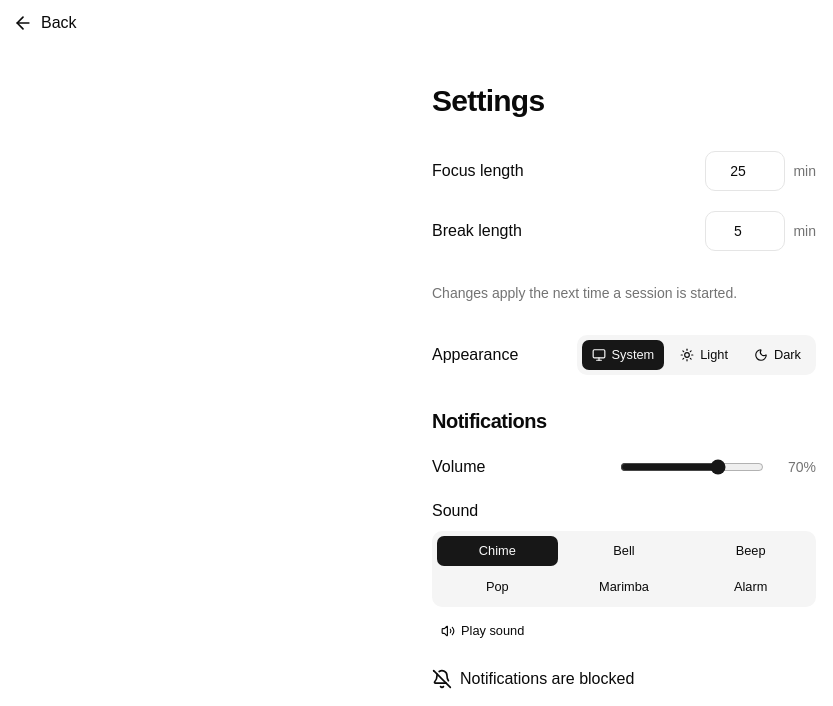
it: sound › selects, saves and previews a new sound
The image size is (833, 706).
Click the radio button labelled "Bell" at (624, 551), box [563,535,685,567]
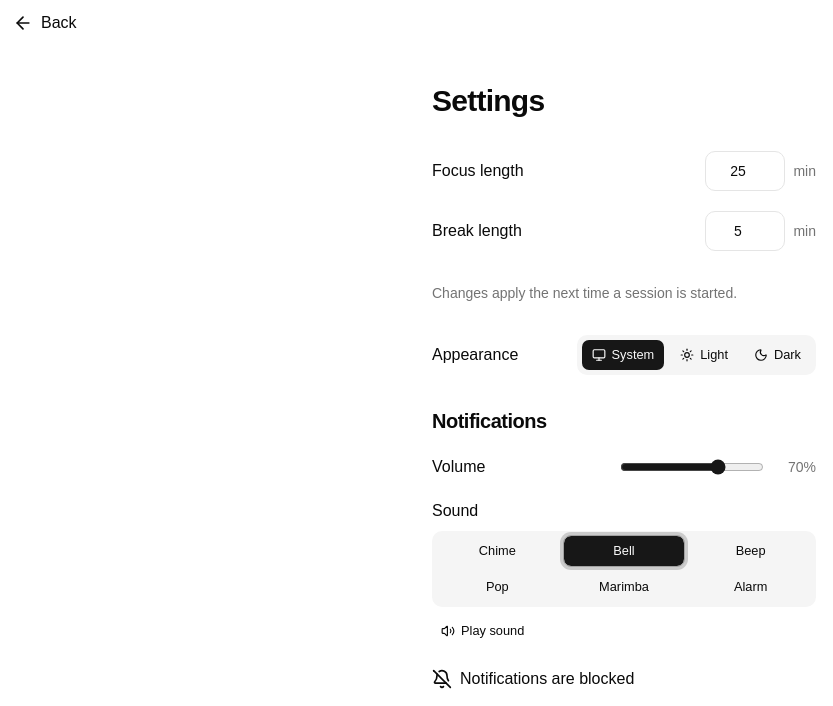
expect the radio button labelled "Bell" is checked: met, box [563,535,685,567]
expect the radio button labelled "Chime" is not checked: met, box [436,535,559,567]
